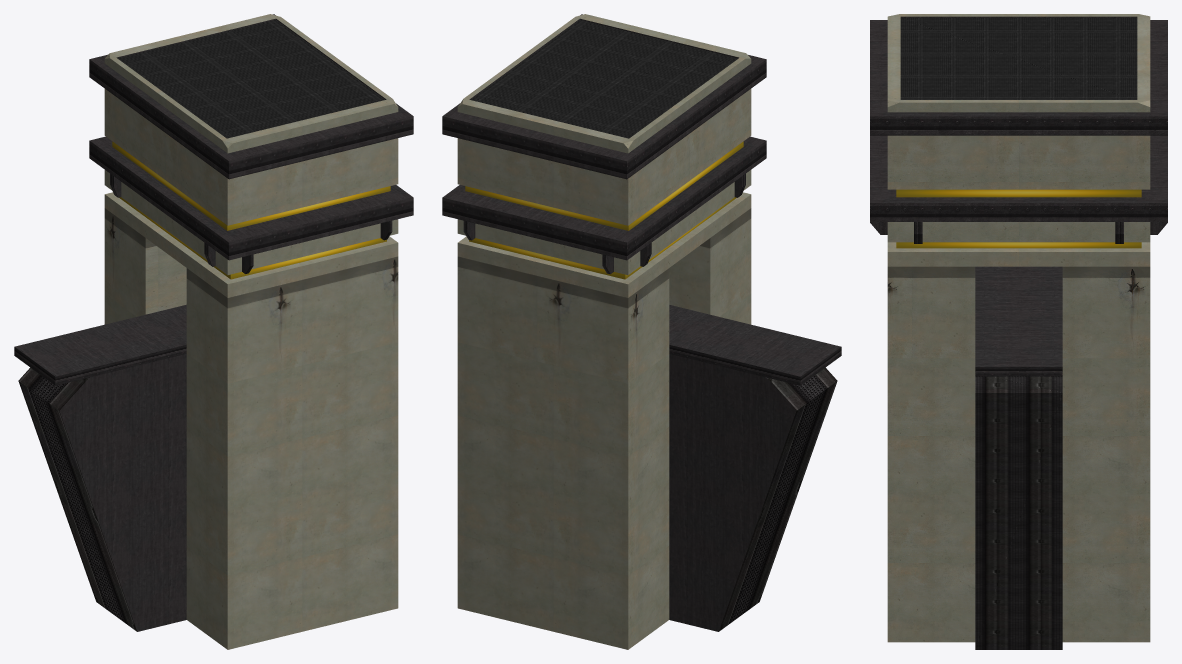
Rendered from tall_tower.fbx.
3 renders of one model, left to right at view 1: azimuth 30°, elevation 25°; view 2: azimuth 150°, elevation 25°; view 3: azimuth 270°, elevation 25°, orthographic. The views are drawn at different scales.
Visible parts, largest first — view 1: Object; view 2: Object; view 3: Object.
Part boxes in pixels (left/top/right/bottom): Object: left=14, top=14, right=413, bottom=649; Object: left=442, top=14, right=841, bottom=649; Object: left=870, top=14, right=1167, bottom=649.
Size of the model in its own units: 4800 by 6800 by 3400.
